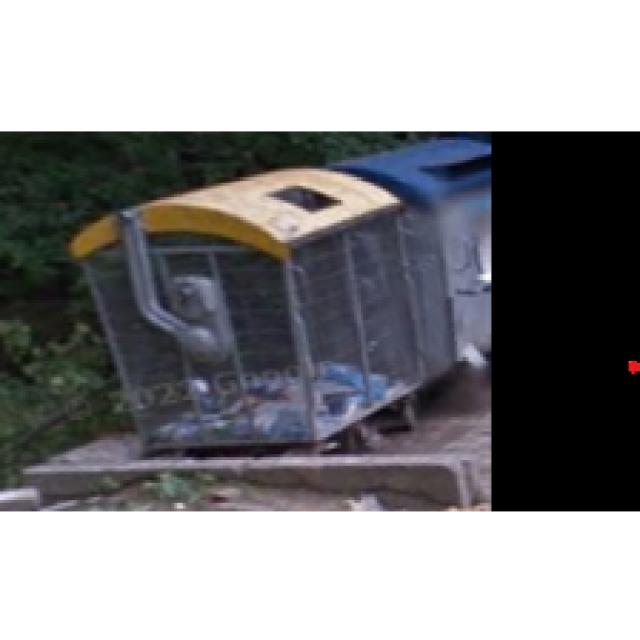plastic trash bin: (59, 163, 414, 460)
